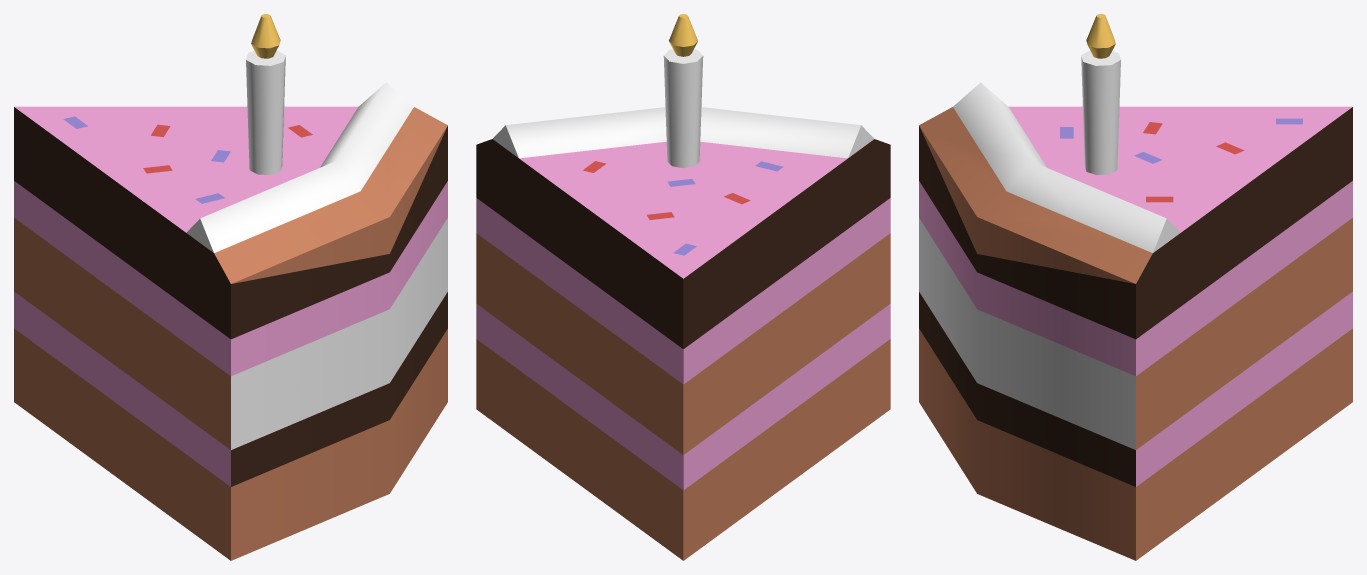
The model's file is cake-slice.glb.
3 views of the same model, side by side, from view 1: azimuth 30°, elevation 25°; view 2: azimuth 150°, elevation 25°; view 3: azimuth 270°, elevation 25° (orthographic). The views are drawn at different scales.
Parts seen in each view (by area): view 1: slice_export; view 2: slice_export; view 3: slice_export.
Part boxes in pixels (<box>): slice_export: <box>14,14,447,560</box>; slice_export: <box>476,14,890,560</box>; slice_export: <box>919,14,1352,560</box>.
Size of the model in its own units: 0.2768 by 0.3638 by 0.3196.
